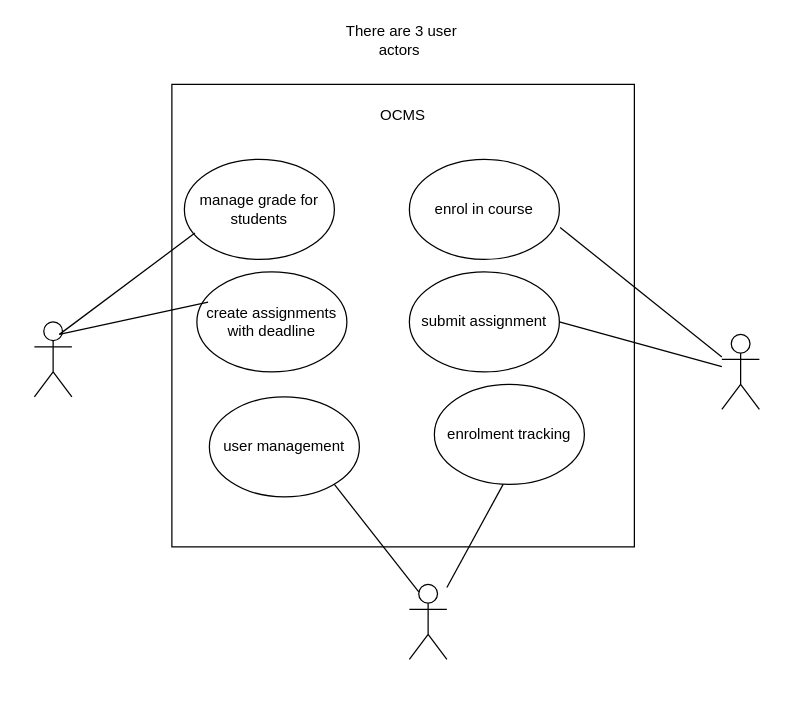
The diagram is 788 pixels wide and 706 high, and some of its shapes have lost their labels. The shapes that lost their labels are listed below. From the top down, each one's centre as x and y in pixels, then its label:
(52,359): Instructor
(740,371): Student
(427,621): Administrator
